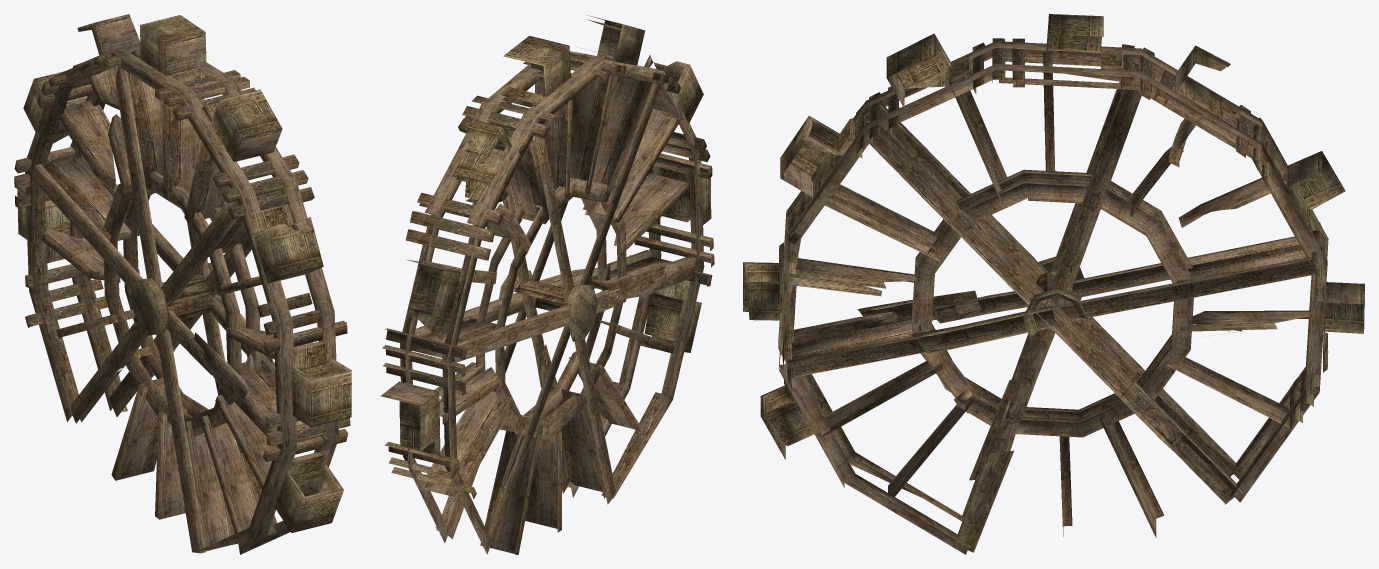
File: S_Build_West094_A1.FBX
3 renders of one model, left to right at view 1: azimuth 30°, elevation 25°; view 2: azimuth 150°, elevation 25°; view 3: azimuth 270°, elevation 25°, orthographic. The views are drawn at different scales.
Visible parts, largest first — view 1: S_Build_West094_A1; view 2: S_Build_West094_A1; view 3: S_Build_West094_A1.
Boxes of the visible parts, x1=… form: S_Build_West094_A1: x1=14, y1=14, x2=351, y2=554; S_Build_West094_A1: x1=380, y1=15, x2=714, y2=554; S_Build_West094_A1: x1=743, y1=14, x2=1364, y2=554.
Bounding box in the file's own units: 130 × 748 × 806.
